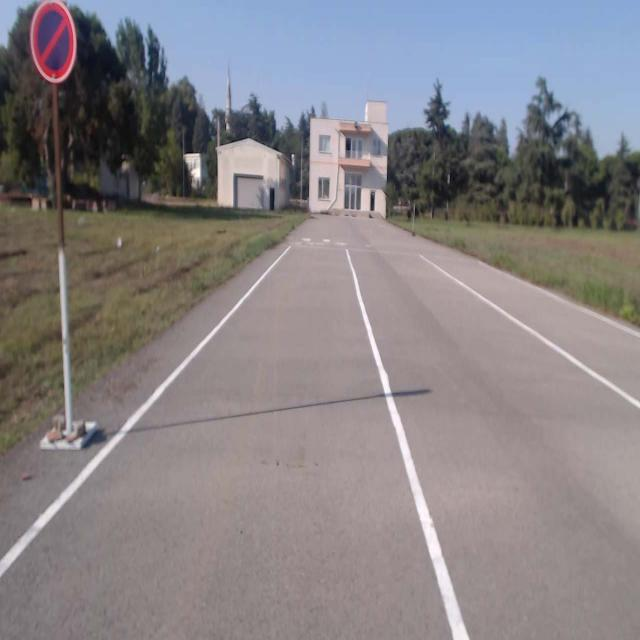parkyasak: (30, 2, 78, 82)
